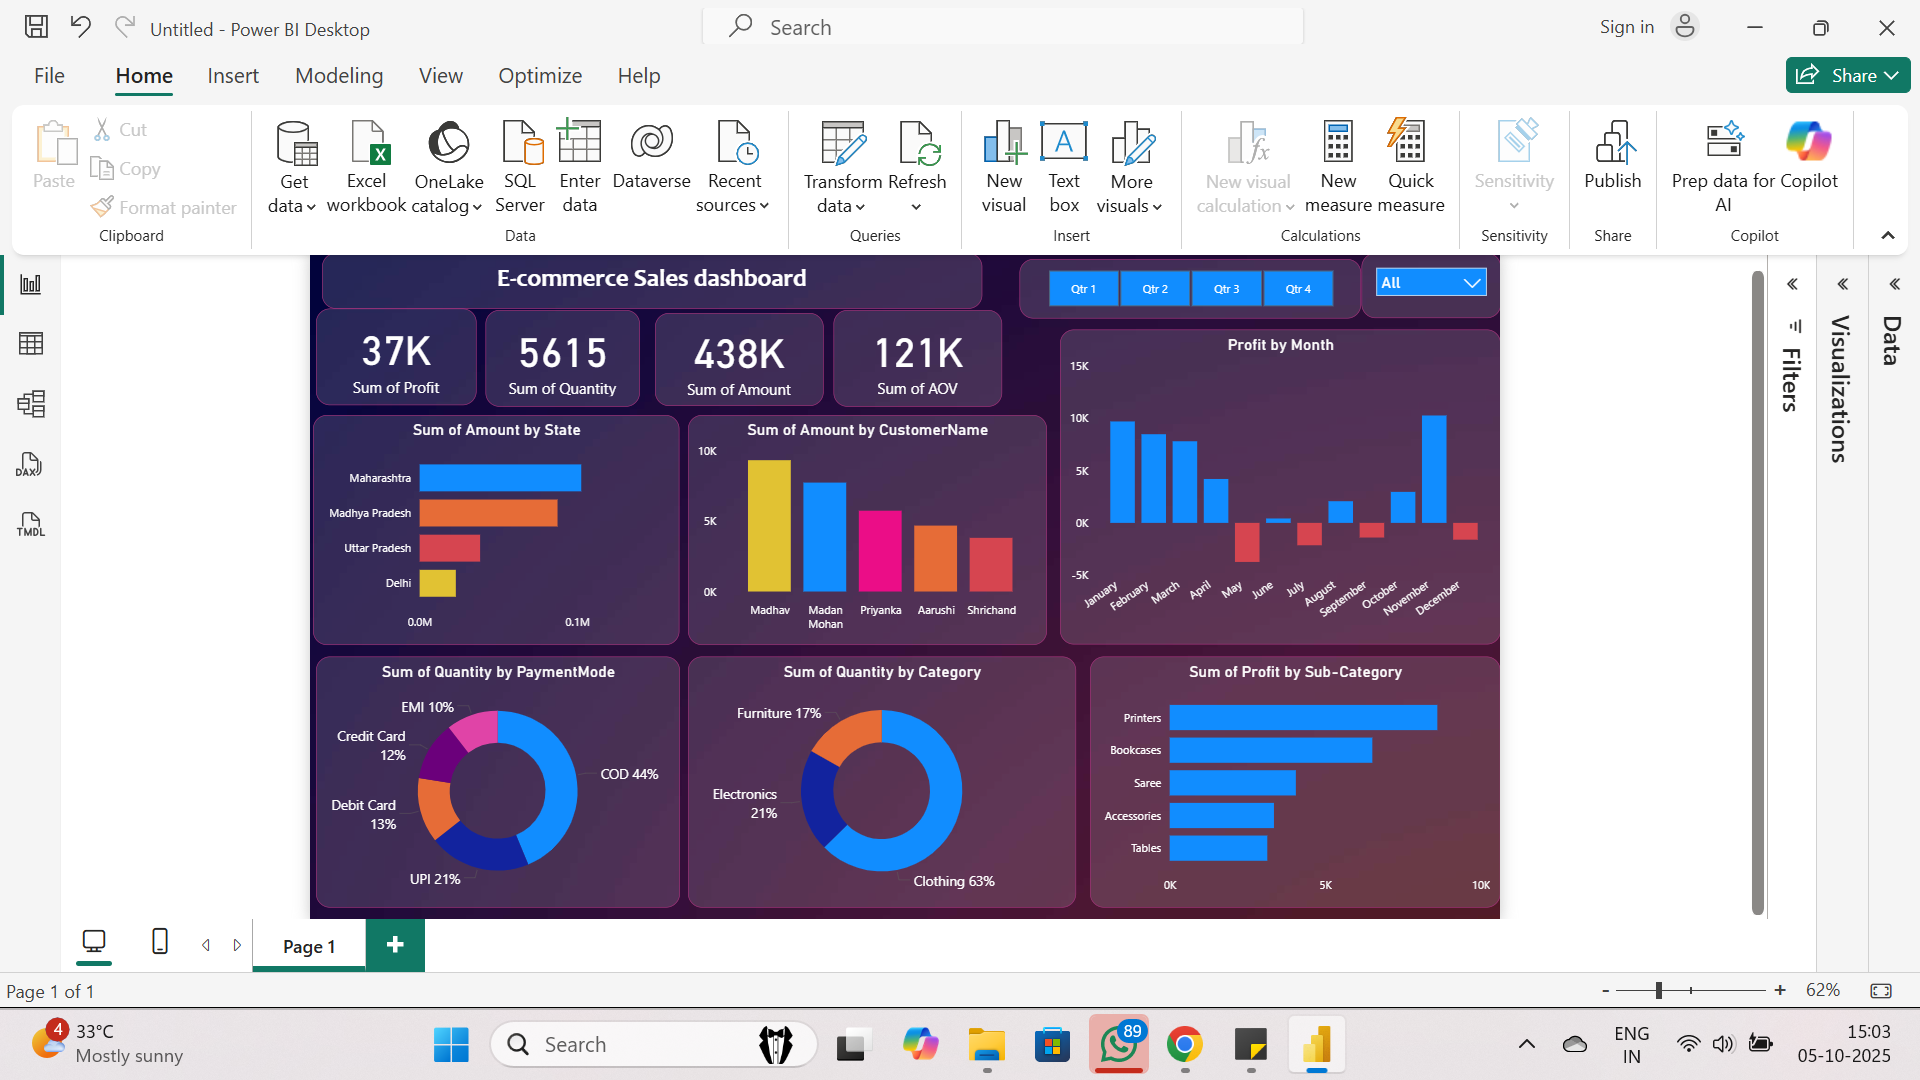

The page's visual inventory and layout, read from the dashboard file:
{"tool":"powerbi","page":{"name":"Page 1","canvas":[1280,720],"ordinal":0},"visuals":[{"type":"textbox","box":[12.9,0,710,60],"z":0},{"type":"columnChart","title":"Profit by Month","fields":{"Category":["Orders.Order Date.Variation.Date Hierarchy.Month"],"Y":["Details.Profit"]},"box":[805.7,82.9,474.3,338.6],"z":1000},{"type":"barChart","fields":{"Category":["Details.Sub-Category"],"Y":["Details.Profit"]},"box":[838.6,434.3,441.4,270],"z":2000},{"type":"donutChart","fields":{"Category":["Details.Category"],"Y":["Details.Quantity"]},"box":[407.1,434.3,417.1,270],"z":3000},{"type":"donutChart","fields":{"Category":["Details.PaymentMode"],"Y":["Details.Quantity"]},"box":[5.7,434.3,391.4,270],"z":4000},{"type":"card","fields":{"Values":["Details.Profit"]},"box":[5.7,60,172.9,104.3],"z":5000},{"type":"card","fields":{"Values":["Details.Amount"]},"box":[371.4,64.3,181.4,100],"z":6000},{"type":"card","fields":{"Values":["Details.Quantity"]},"box":[188.6,61.4,165.7,104.3],"z":7000},{"type":"card","fields":{"Values":["Details.Average_orderValue"]},"box":[562.9,61.4,181.4,104.3],"z":8000},{"type":"barChart","fields":{"Category":["Orders.State"],"Y":["Details.Amount"]},"box":[2.9,174.3,394.3,247.1],"z":9000},{"type":"columnChart","fields":{"Y":["Details.Amount"],"Category":["Orders.CustomerName"]},"box":[407.1,174.3,385.7,247.1],"z":10000},{"type":"slicer","fields":{"Values":["Orders.Order Date.Variation.Date Hierarchy.Quarter"]},"box":[762.9,5.7,367.1,64.3],"z":11000},{"type":"slicer","fields":{"Values":["Orders.State"]},"box":[1130,0,150,70],"z":11001}]}

Visuals, with their boxes on the page's 1280x720 design canvas (x1, y1, x2, y2). These are canvas units, not pixel positions in the 1920x1080 screenshot, which may show the page scaled, cropped or inside an application window:
textbox: (13,0,723,60)
"Profit by Month" columnChart: (806,83,1280,422)
barChart - Details.Sub-Category x Details.Profit: (839,434,1280,704)
donutChart - Details.Category x Details.Quantity: (407,434,824,704)
donutChart - Details.PaymentMode x Details.Quantity: (6,434,397,704)
card - Details.Profit: (6,60,179,164)
card - Details.Amount: (371,64,553,164)
card - Details.Quantity: (189,61,354,166)
card - Details.Average_orderValue: (563,61,744,166)
barChart - Orders.State x Details.Amount: (3,174,397,421)
columnChart - Details.Amount x Orders.CustomerName: (407,174,793,421)
slicer - Orders.Order Date.Variation.Date Hierarchy.Quarter: (763,6,1130,70)
slicer - Orders.State: (1130,0,1280,70)
